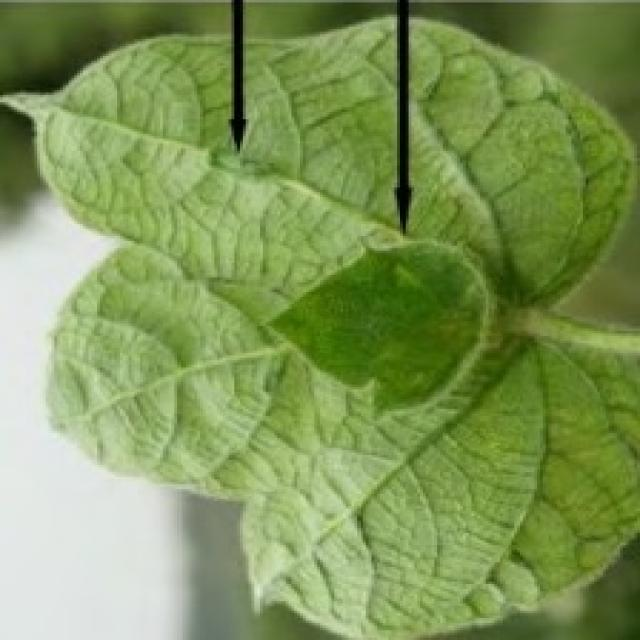Leaf Curl Virus: (154, 100, 583, 486)
